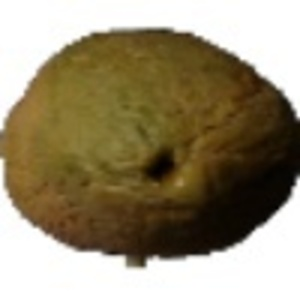mamão: (3, 24, 295, 257)
